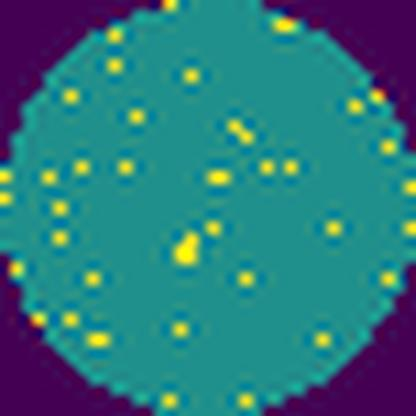Loc: (171, 230, 202, 267)
